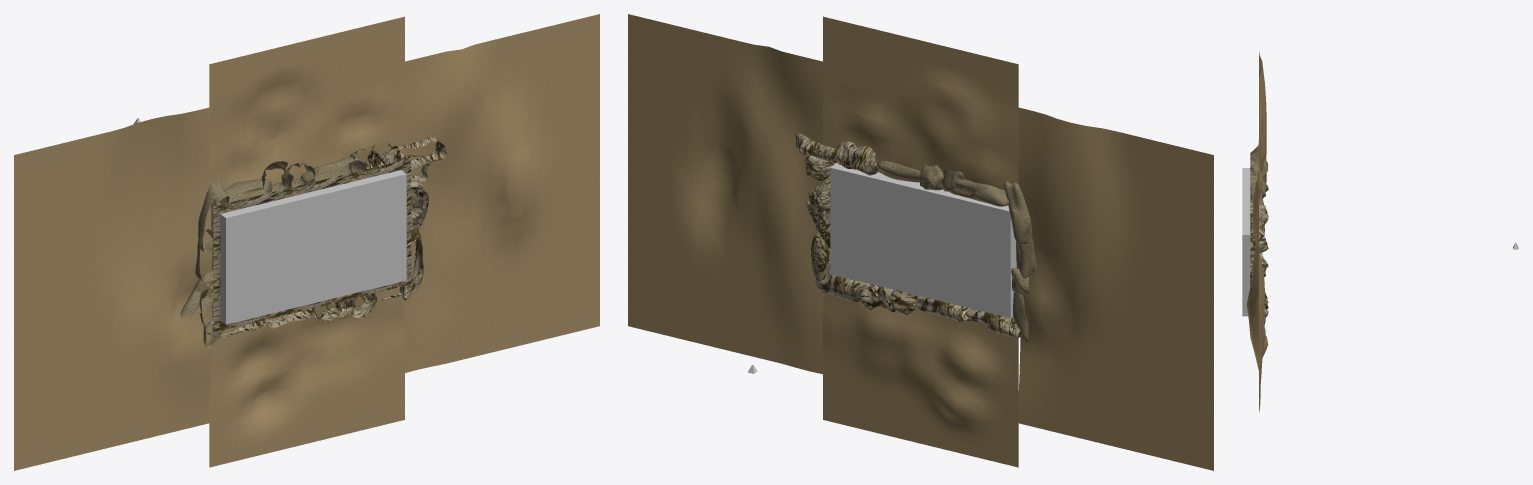
Rendered from marsMap2.FBX.
3 renders of one model, left to right at view 1: azimuth 30°, elevation 25°; view 2: azimuth 150°, elevation 25°; view 3: azimuth 270°, elevation 25°, orthographic. The views are drawn at different scales.
Parts seen in each view (by area): view 1: playField, worldBounds; view 2: playField, worldBounds; view 3: playField, worldBounds.
Part boxes in pixels (x1,y1,x2,y2): playField: (14, 14, 599, 470); worldBounds: (213, 170, 406, 324); playField: (628, 14, 1213, 470); worldBounds: (830, 163, 1016, 318); playField: (1246, 51, 1268, 412); worldBounds: (1242, 168, 1262, 316).
Size of the model in its own units: 906 by 486 by 596.
